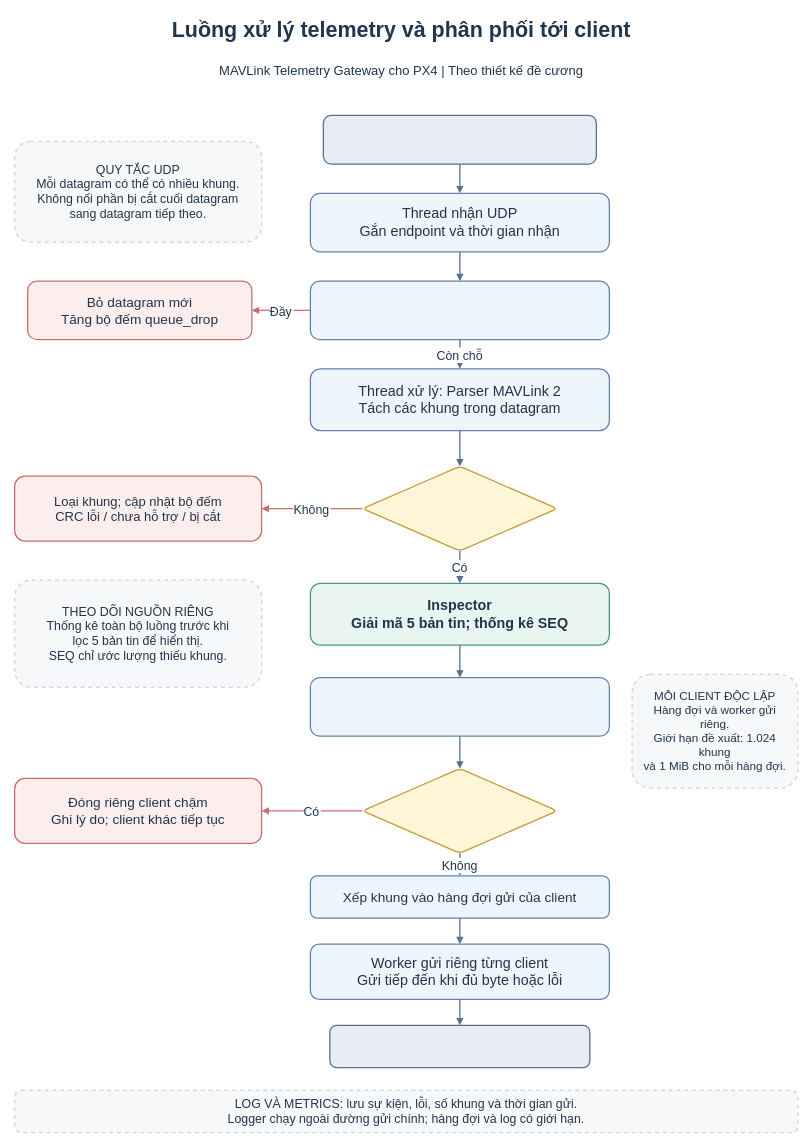
Image size: 809x1144. Some labels were removed from this diagram. The shapes that lost their labels are listed below. From the top down, each one's box as (x1, y1, x2, y2) in pixels, then its label:
(322, 114, 597, 164): PX4 SITL Phát telemetry qua UDP
(309, 280, 610, 340): Hàng đợi nhận UDP Giới hạn đề xuất: 4.096 datagram
(361, 465, 558, 551): Khung hợp lệ?
(309, 677, 610, 736): Phân phối khung raw nguyên bản Xét từng client đang hoạt động
(361, 768, 558, 853): Hàng đợi client này đầy?
(329, 1024, 590, 1068): Các client TCP Quan sát và điều khiển
